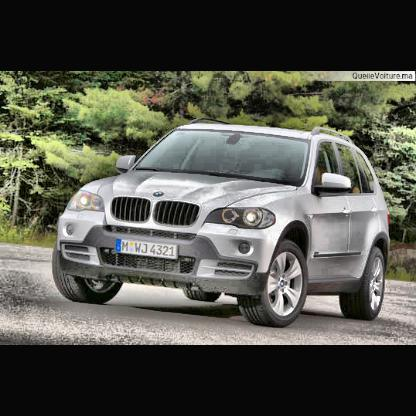BMW X5 SUV 2007: (53, 113, 393, 331)
